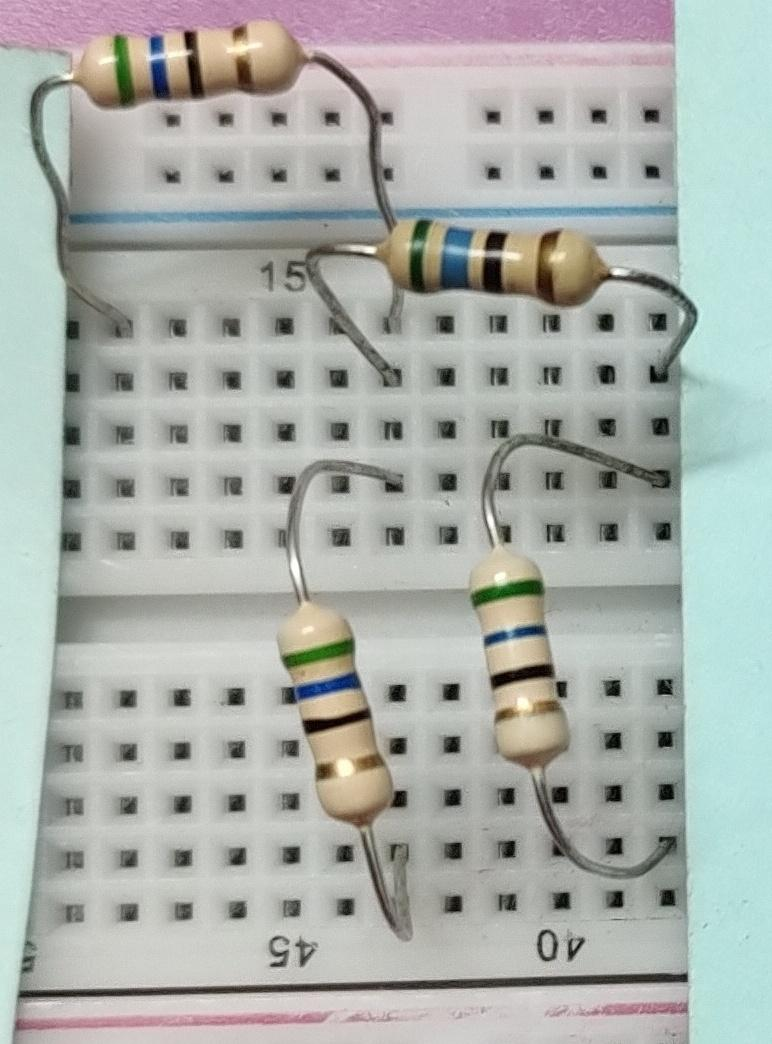resistor: (263, 583, 409, 833), (455, 535, 584, 785), (379, 203, 611, 314), (61, 15, 312, 109)
